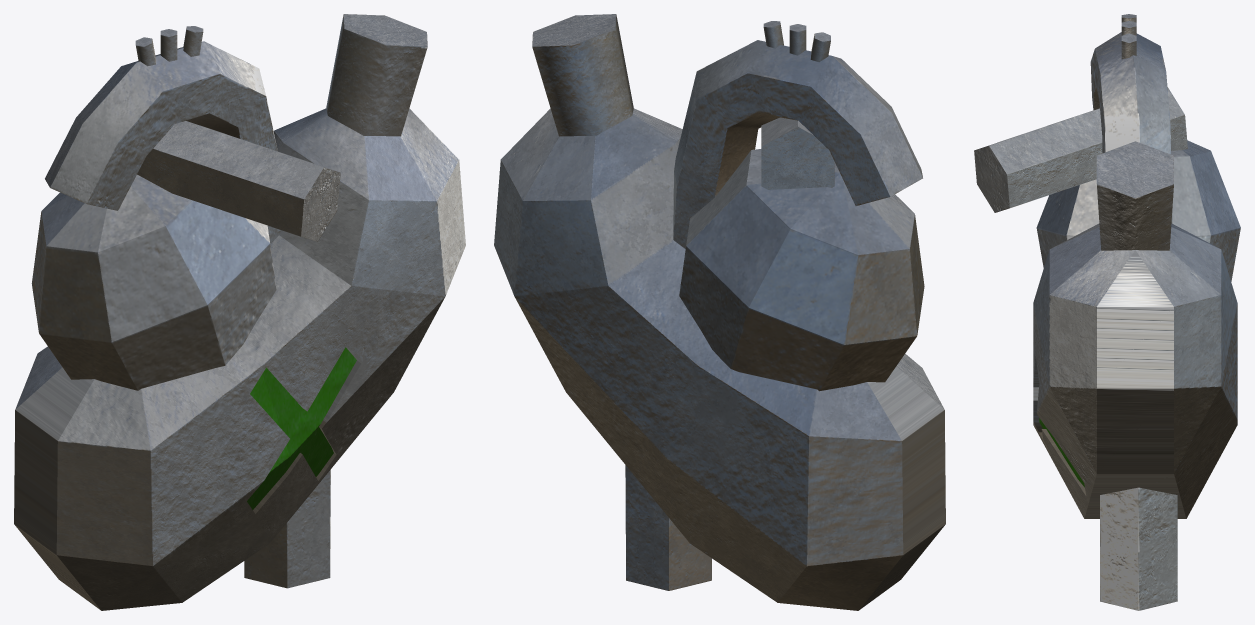
The model's file is Dash_Gabriel.fbx.
The picture shows the model from 3 angles, left to right: view 1: azimuth 30°, elevation 25°; view 2: azimuth 150°, elevation 25°; view 3: azimuth 270°, elevation 25°; orthographic projection. The views are drawn at different scales.
Visible parts, largest first — view 1: Roll_Gabriel's Guidance; view 2: Roll_Gabriel's Guidance; view 3: Roll_Gabriel's Guidance.
Boxes of the visible parts, box(x1,y1,x2,y2) form: Roll_Gabriel's Guidance: box(14, 14, 465, 610); Roll_Gabriel's Guidance: box(494, 14, 945, 610); Roll_Gabriel's Guidance: box(974, 14, 1240, 610).
Bounding box in the file's own units: 53.96 × 71.63 × 33.77.
1 material, 1 textured.
